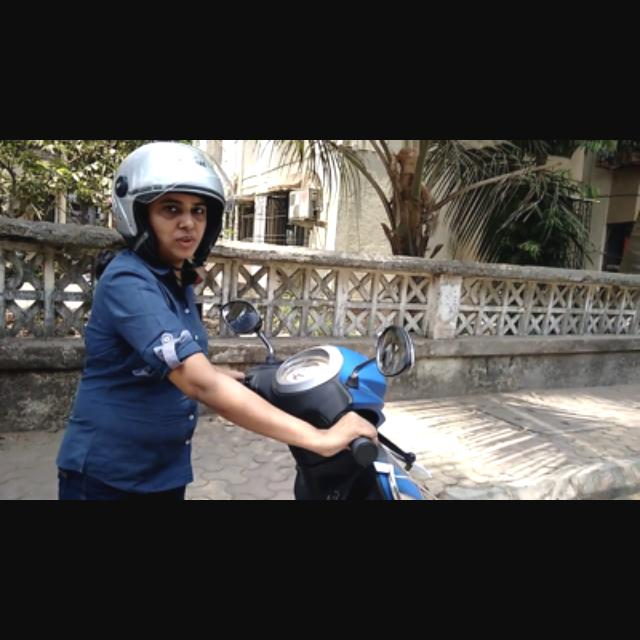With Helmet: (110, 142, 234, 274)
